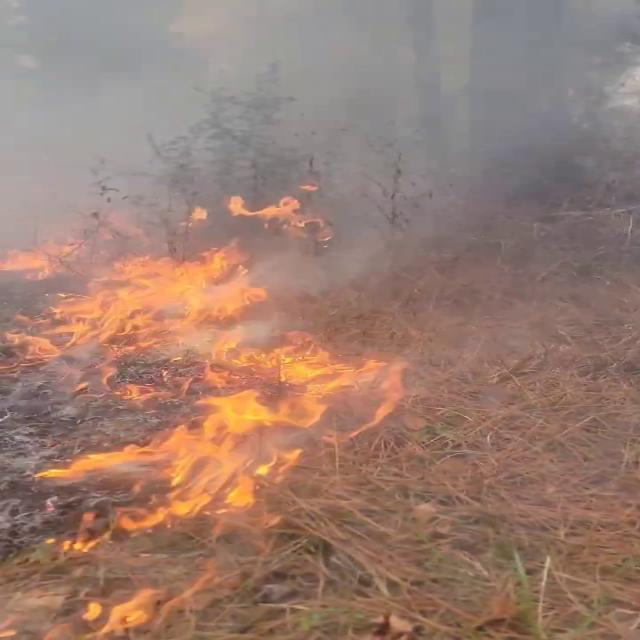Fire: (8, 193, 406, 596)
Smoke: (2, 0, 640, 336)
